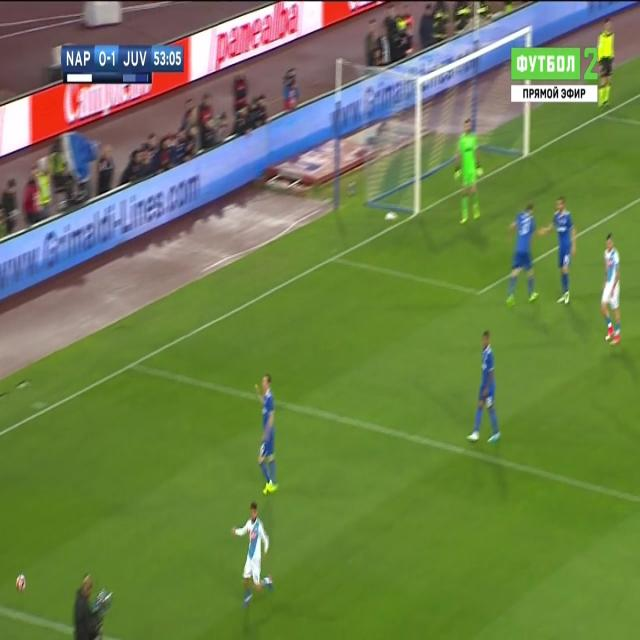Ball: (14, 570, 28, 594)
Goalkeeper: (452, 115, 484, 229)
Player: (230, 502, 276, 609), (466, 327, 503, 442), (506, 204, 546, 308), (544, 194, 578, 309), (252, 372, 282, 496), (598, 230, 625, 352)
Referee: (596, 17, 617, 116)
